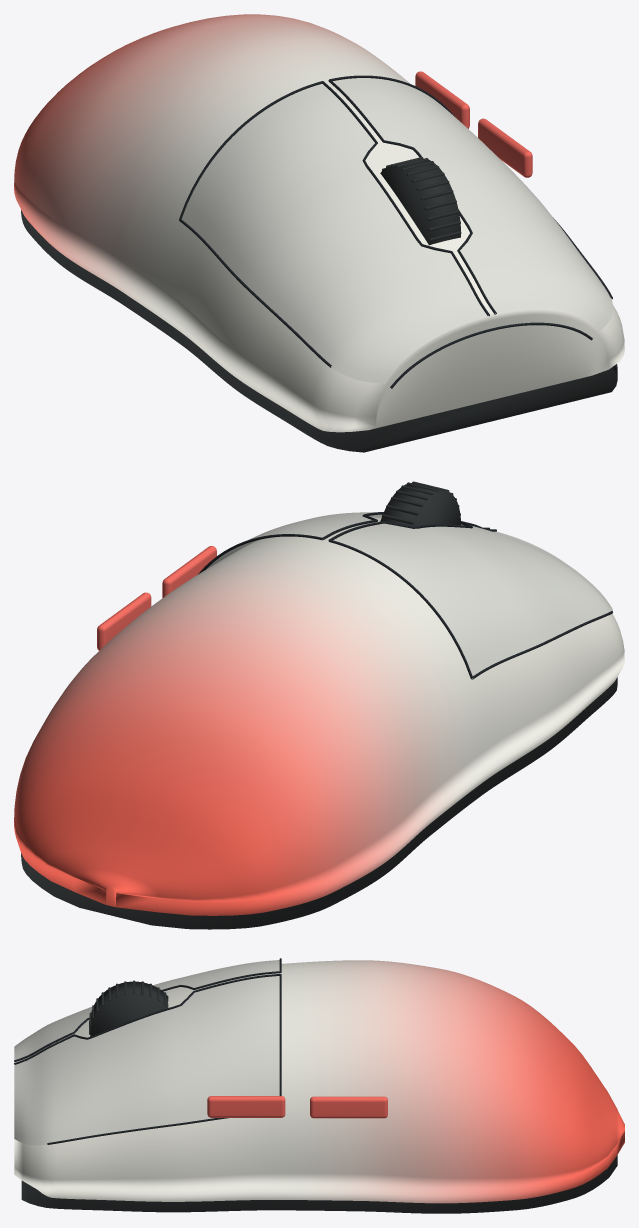
File: lod0_source.glb
3 renders of one model, top to bottom at view 1: azimuth 30°, elevation 25°; view 2: azimuth 150°, elevation 25°; view 3: azimuth 270°, elevation 25°, orthographic. The views are drawn at different scales.
Parts seen in each view (by area): view 1: Mouse body GPX continuous rounded back, Left click panel, Right click panel, Thin inset black base, Scroll wheel, Side button left only, Side button left only.001, Left click center seam, Right click center seam, Front recessed button separation, Left click outer seam, Left click rear seam; view 2: Mouse body GPX continuous rounded back, Left click panel, Thin inset black base, Scroll wheel, Right click panel, Side button left only.001, Side button left only, Left click rear seam; view 3: Mouse body GPX continuous rounded back, Right click panel, Thin inset black base, Left click panel, Scroll wheel, Side button left only.001, Side button left only, Right click center seam, Left click center seam, Right click outer seam, Right click rear seam.
Part boxes in pixels (x1=…): Mouse body GPX continuous rounded back: x1=14, y1=14, x2=624, y2=432; Left click panel: x1=181, y1=84, x2=488, y2=383; Right click panel: x1=333, y1=78, x2=612, y2=331; Thin inset black base: x1=21, y1=210, x2=617, y2=452; Scroll wheel: x1=380, y1=159, x2=460, y2=245; Side button left only: x1=478, y1=118, x2=532, y2=177; Side button left only.001: x1=415, y1=71, x2=469, y2=128; Left click center seam: x1=322, y1=81, x2=489, y2=316; Right click center seam: x1=328, y1=79, x2=496, y2=314; Front recessed button separation: x1=390, y1=322, x2=592, y2=388; Left click outer seam: x1=179, y1=219, x2=331, y2=367; Left click rear seam: x1=179, y1=81, x2=322, y2=219; Mouse body GPX continuous rounded back: x1=14, y1=517, x2=624, y2=915; Left click panel: x1=333, y1=523, x2=612, y2=678; Thin inset black base: x1=21, y1=677, x2=617, y2=929; Scroll wheel: x1=380, y1=483, x2=460, y2=526; Right click panel: x1=206, y1=512, x2=463, y2=569; Side button left only.001: x1=97, y1=592, x2=151, y2=650; Side button left only: x1=162, y1=546, x2=216, y2=597; Left click rear seam: x1=329, y1=539, x2=472, y2=678; Mouse body GPX continuous rounded back: x1=14, y1=960, x2=624, y2=1203; Right click panel: x1=14, y1=976, x2=279, y2=1145; Thin inset black base: x1=21, y1=1155, x2=617, y2=1213; Left click panel: x1=14, y1=960, x2=279, y2=1060; Scroll wheel: x1=90, y1=981, x2=168, y2=1036; Side button left only.001: x1=310, y1=1096, x2=387, y2=1118; Side button left only: x1=207, y1=1096, x2=285, y2=1117; Right click center seam: x1=14, y1=974, x2=279, y2=1064; Left click center seam: x1=14, y1=971, x2=280, y2=1061; Right click outer seam: x1=47, y1=1118, x2=228, y2=1144; Right click rear seam: x1=279, y1=974, x2=281, y2=1095.
Size of the model in its own units: 0.0635 by 0.0404 by 0.1251.
